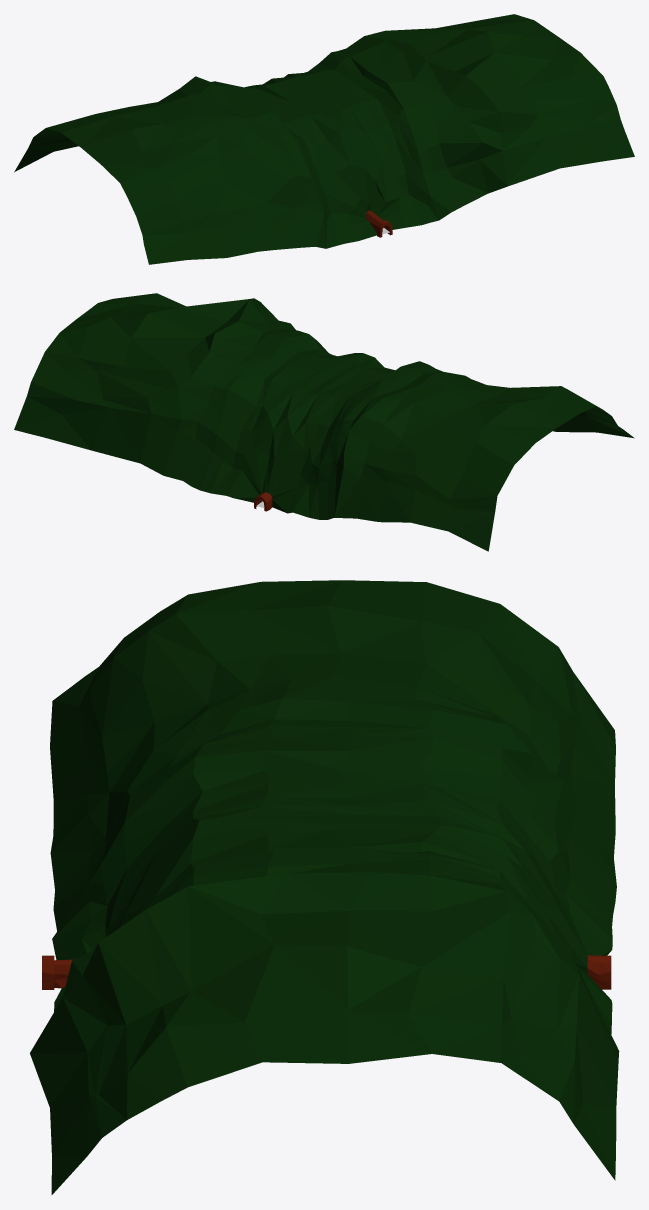
File: Tunnel.fbx
The picture shows the model from 3 angles, top to bottom: view 1: azimuth 30°, elevation 25°; view 2: azimuth 150°, elevation 25°; view 3: azimuth 270°, elevation 25°; orthographic projection. The views are drawn at different scales.
Visible parts, largest first — view 1: Plane; view 2: Plane; view 3: Plane.
Part boxes in pixels (bbox=[...]): Plane: bbox=[14, 14, 634, 264]; Plane: bbox=[14, 293, 634, 551]; Plane: bbox=[30, 580, 619, 1194].
Size of the model in its own units: 79509 by 16936 by 41554.
